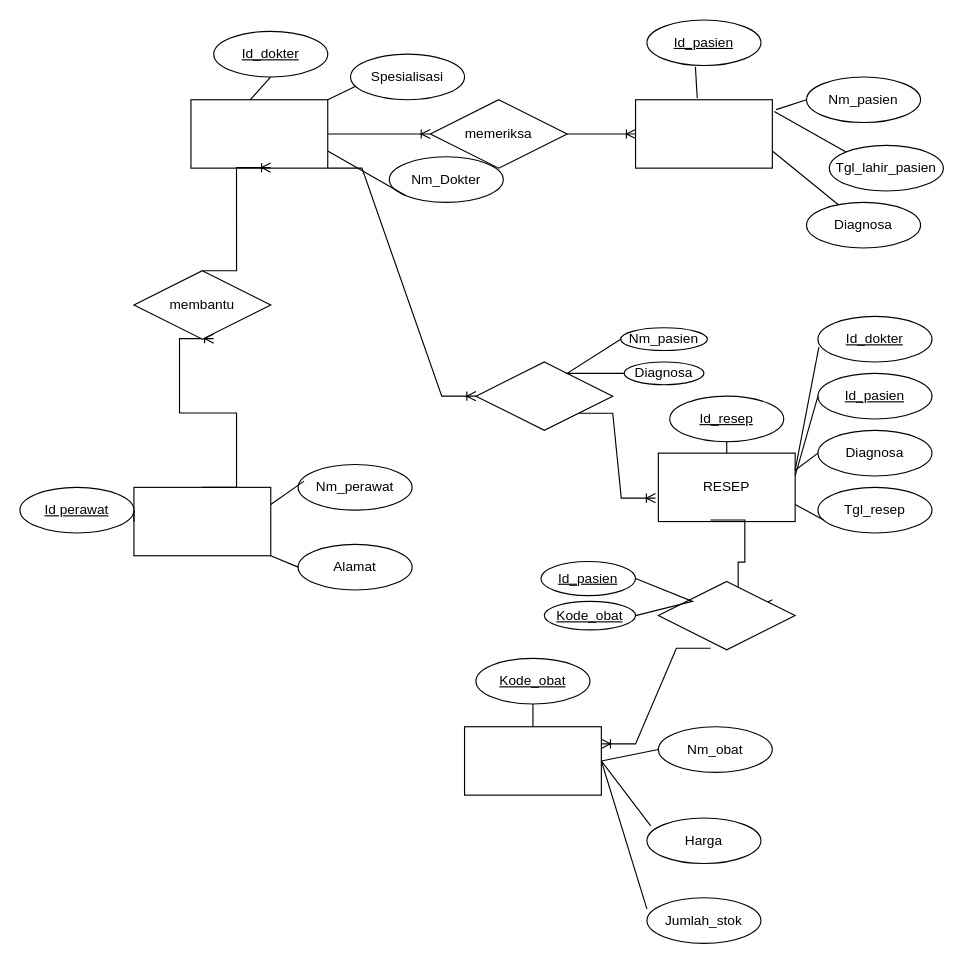
This 963x963 diagram has some shape labels left out. The centre of each missing label's shape, as x and y in pixels:
DOKTER: the point at 259,133
memberi: the point at 726,615
meresepkan: the point at 544,395
OBAT: the point at 532,760
PASIEN: the point at 703,133
PERAWAT: the point at 202,521
